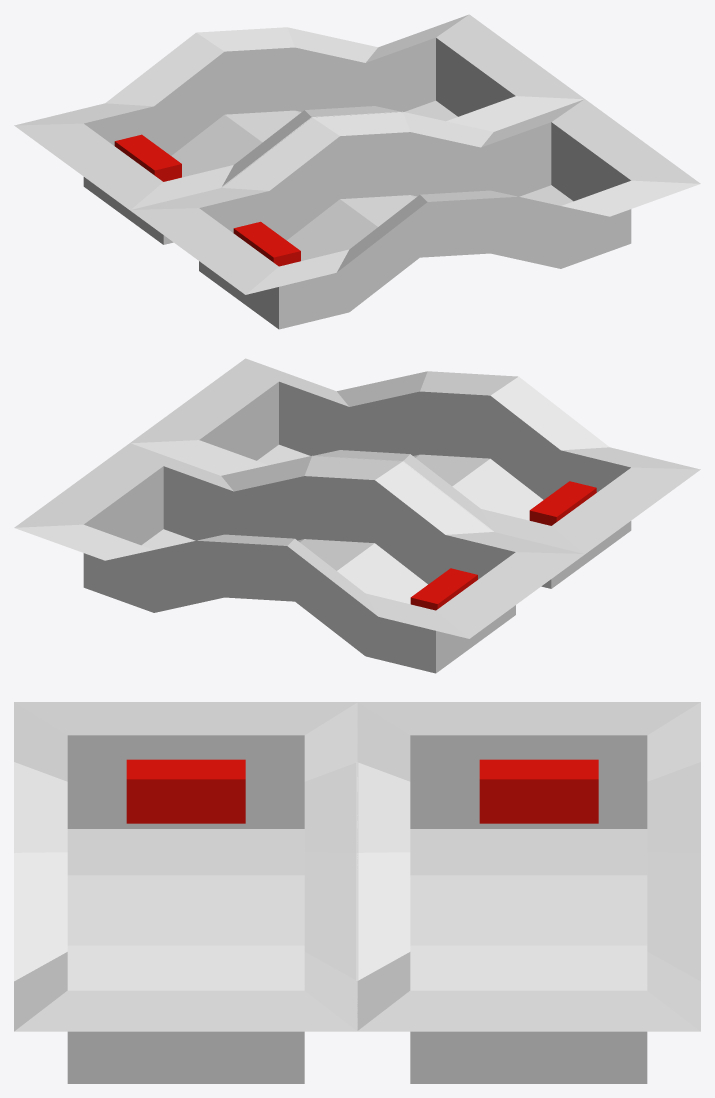
3 views of the same model, one above another, from view 1: azimuth 30°, elevation 25°; view 2: azimuth 150°, elevation 25°; view 3: azimuth 270°, elevation 25° (orthographic). The views are drawn at different scales.
Parts seen in each view (by area): view 1: Plane, Cube.002, Cube.001, Cube; view 2: Cube.002, Plane, Cube, Cube.001; view 3: Plane, Cube.002, Cube, Cube.001.
Boxes of the visible parts, x1,y1,x2,y2 form: Plane: [130, 99, 700, 329]; Cube.002: [14, 14, 584, 244]; Cube.001: [114, 134, 181, 181]; Cube: [233, 221, 300, 266]; Cube.002: [14, 443, 584, 673]; Plane: [130, 358, 700, 588]; Cube: [529, 481, 596, 525]; Cube.001: [410, 568, 477, 610]; Plane: [14, 702, 358, 1083]; Cube.002: [356, 702, 700, 1083]; Cube: [126, 759, 245, 823]; Cube.001: [479, 759, 598, 823].
Size of the model in its own units: 45.51 by 11.19 by 40.08.
